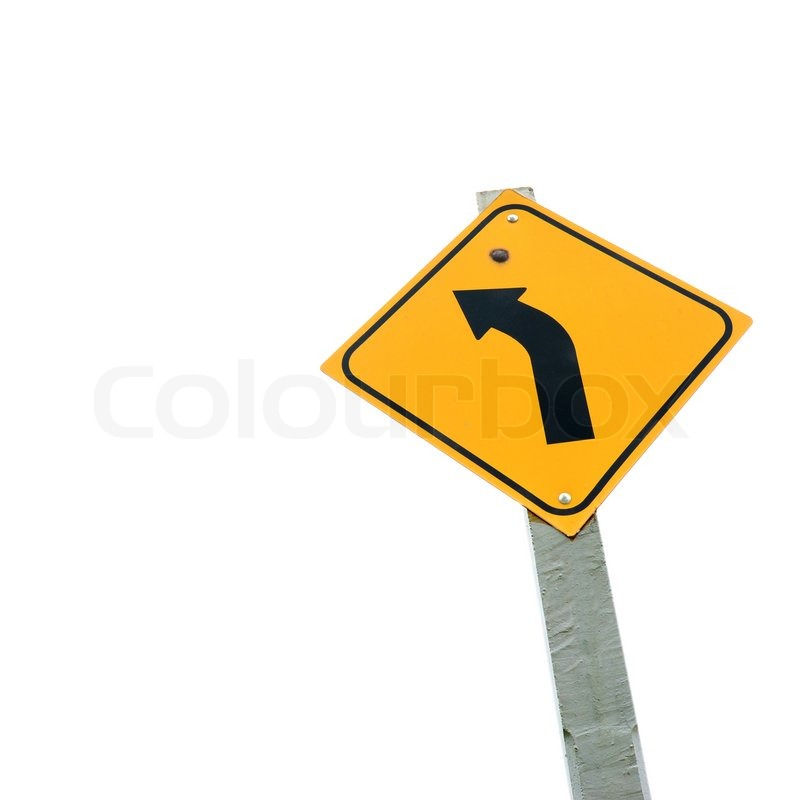left: (322, 192, 741, 523)
